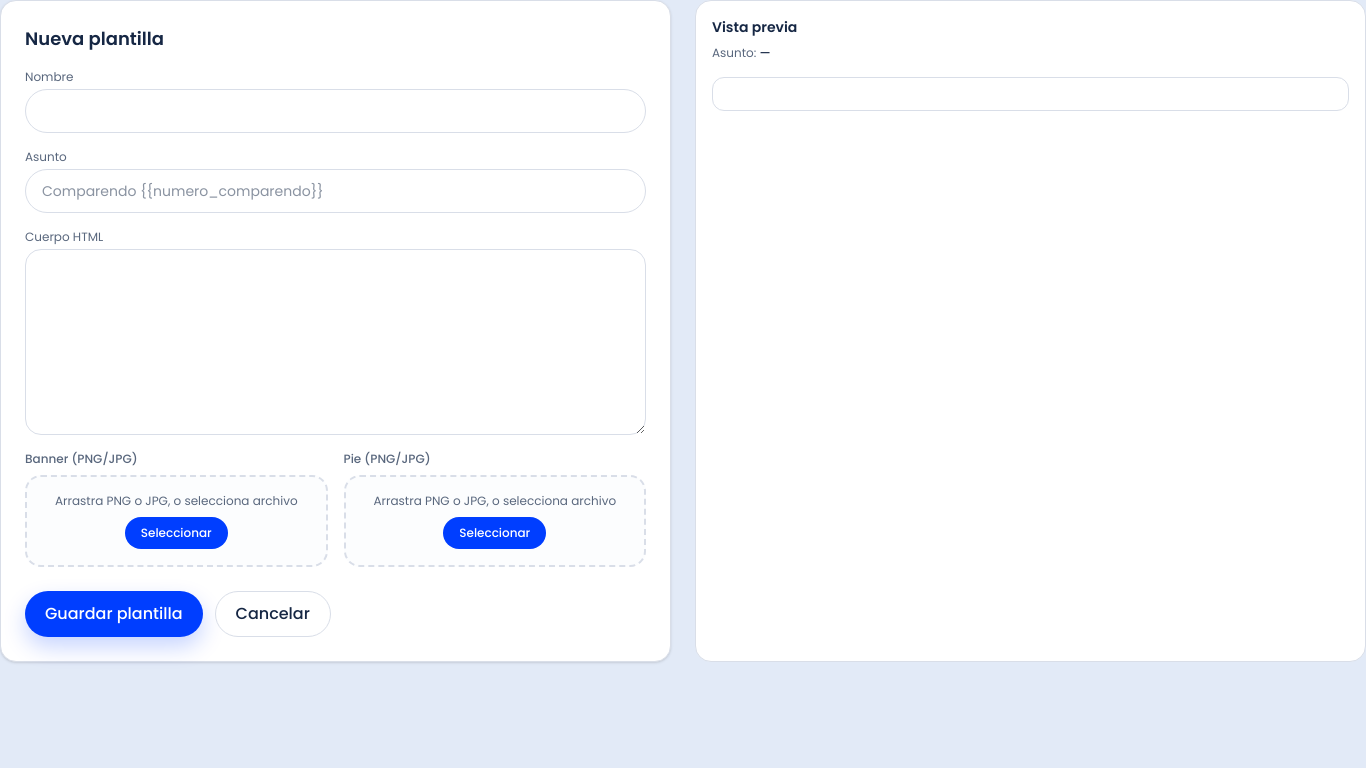
it: TemplateEditor › muestra preview con banner en vivo
The width and height of the screenshot is (1366, 768).
Type "<p>Contenido</p>" into the text box labelled "Cuerpo HTML" at coordinates (336, 342), box x1=25 y1=249 x2=646 y2=435
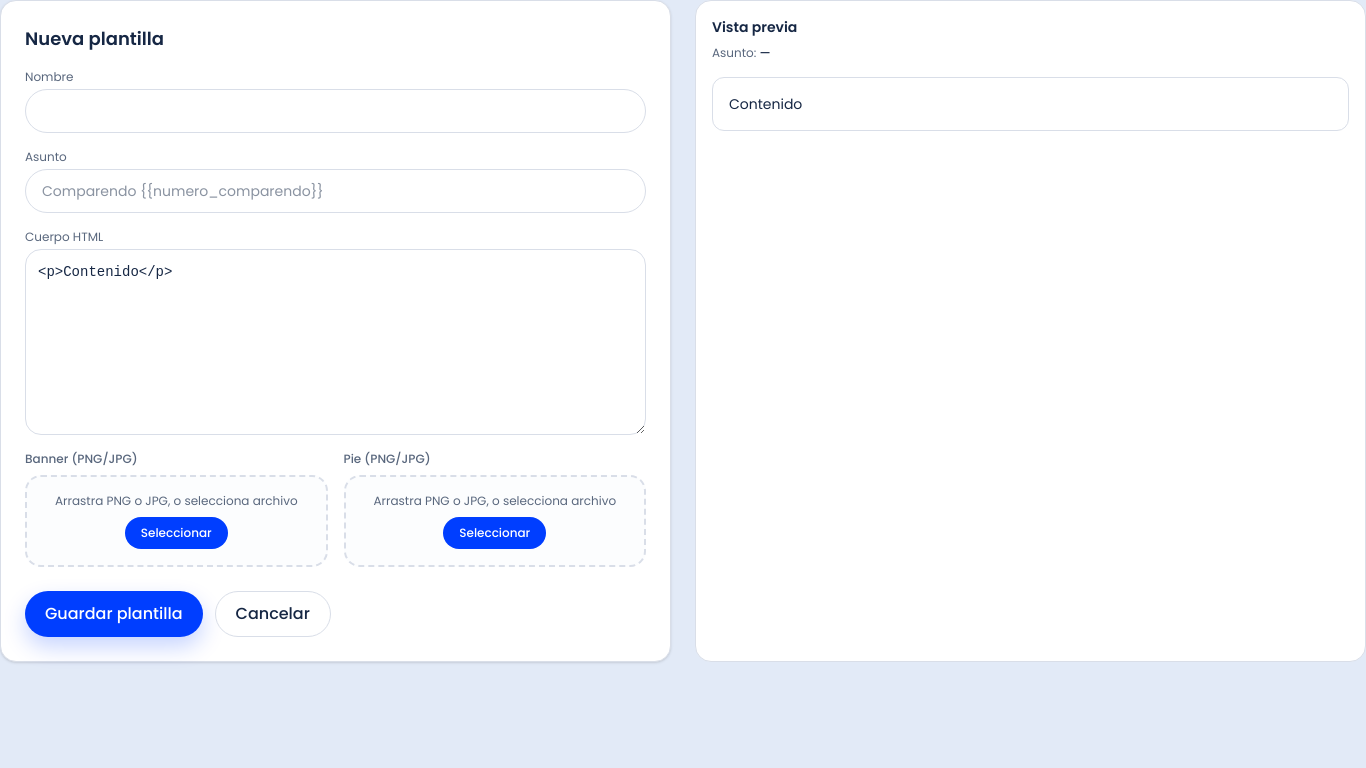
Expected: the element with test id "notif-template-preview" shows "Contenido", x1=729 y1=94 x2=802 y2=114
